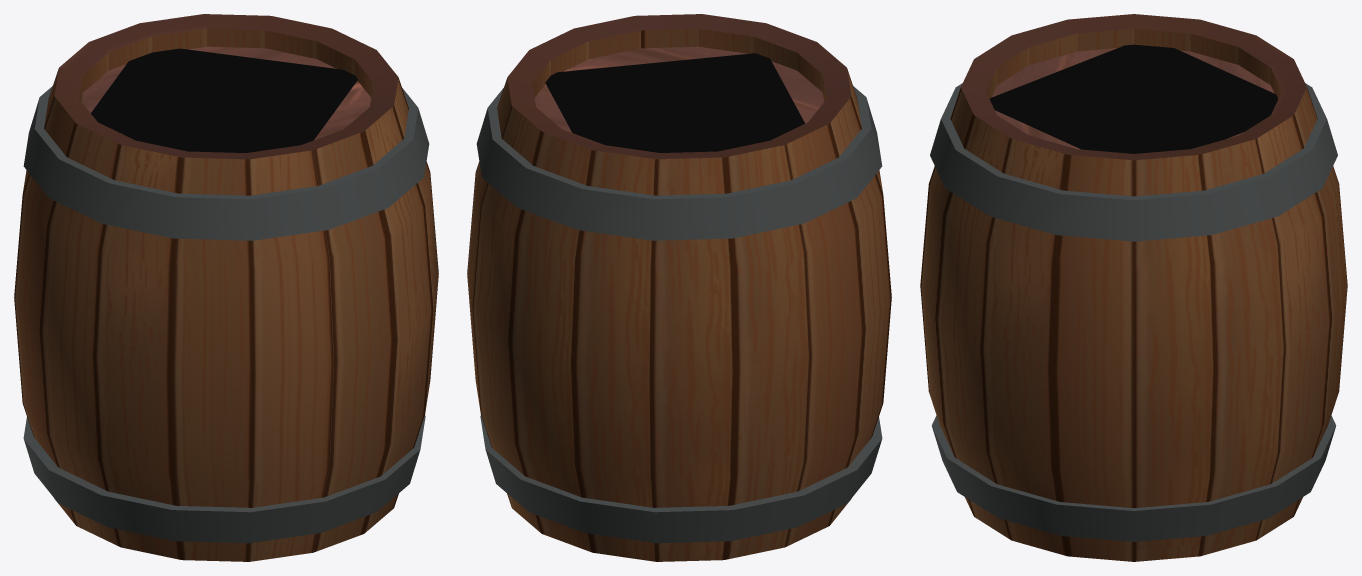
File: Barrel_Art.fbx
3 renders of one model, left to right at view 1: azimuth 30°, elevation 25°; view 2: azimuth 150°, elevation 25°; view 3: azimuth 270°, elevation 25°, orthographic.
Visible parts, largest first — view 1: Oktoberfest_Barrel_LOD0; view 2: Oktoberfest_Barrel_LOD0; view 3: Oktoberfest_Barrel_LOD0.
Boxes of the visible parts, x1,y1,x2,y2 form: Oktoberfest_Barrel_LOD0: (14, 14, 438, 561); Oktoberfest_Barrel_LOD0: (467, 14, 891, 561); Oktoberfest_Barrel_LOD0: (920, 14, 1347, 561).
Size of what is drawn, in the model's own units: 281 by 292 by 281.
